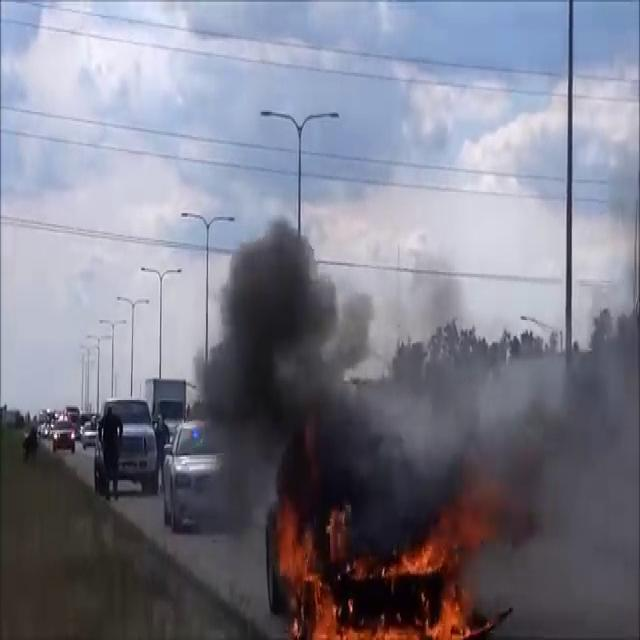Fire: (274, 508, 482, 640)
Smoke: (192, 205, 640, 580)
